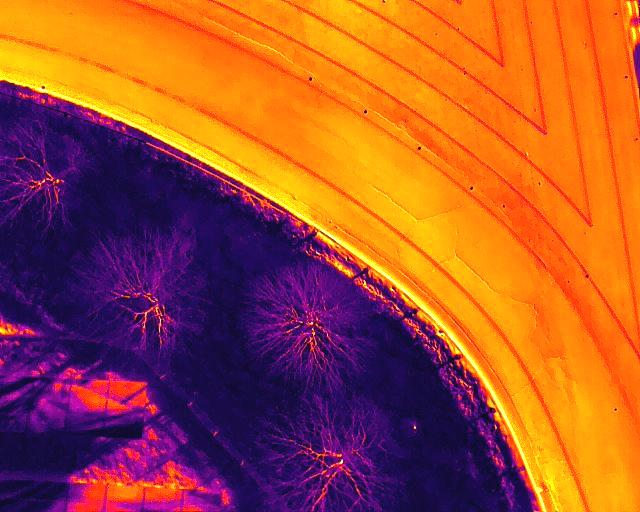Shadowing: (66, 414, 105, 435), (108, 398, 145, 420), (28, 412, 66, 433), (144, 488, 184, 506), (67, 398, 108, 415), (105, 420, 142, 438), (68, 484, 107, 501), (68, 380, 107, 397), (108, 381, 146, 398), (106, 485, 143, 502), (33, 482, 69, 499), (0, 479, 32, 497), (0, 498, 32, 512), (33, 499, 67, 511)
